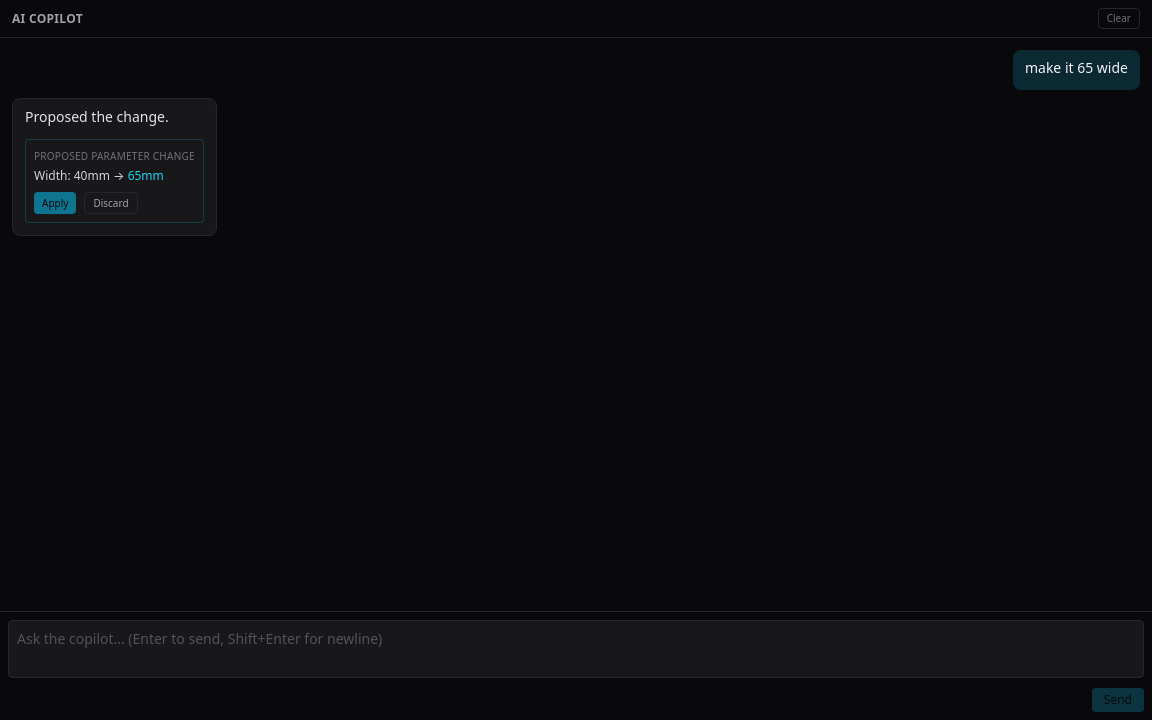
Test case: ChatPanel diff card › Discard resolves without applying and shows a discarded chip
Click the button "Discard" at (111,203), box [84,192,138,214]
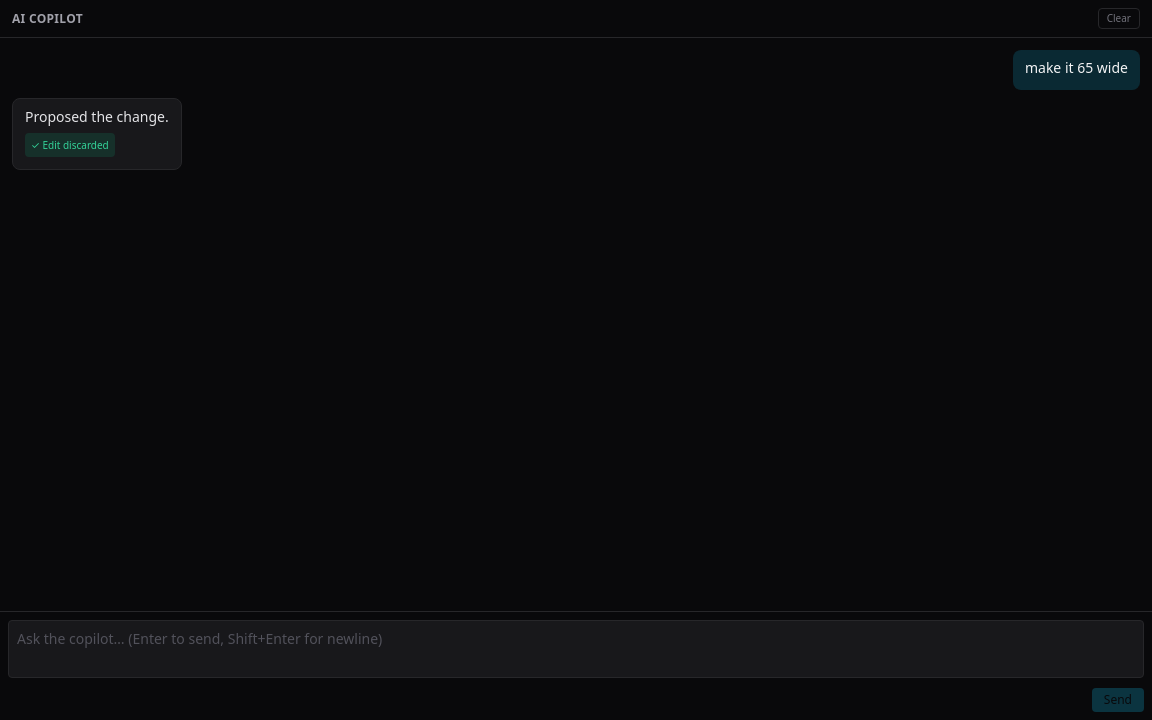
Expected: the element with test id "diff-card" is gone
Expected: the text "✓ Edit discarded" is shown, [25,133,115,157]
